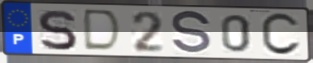0: (218, 12, 255, 55)
2: (129, 10, 167, 54)
C: (259, 12, 303, 58)
D: (81, 8, 124, 54)
S: (170, 9, 213, 57), (35, 8, 79, 52)
